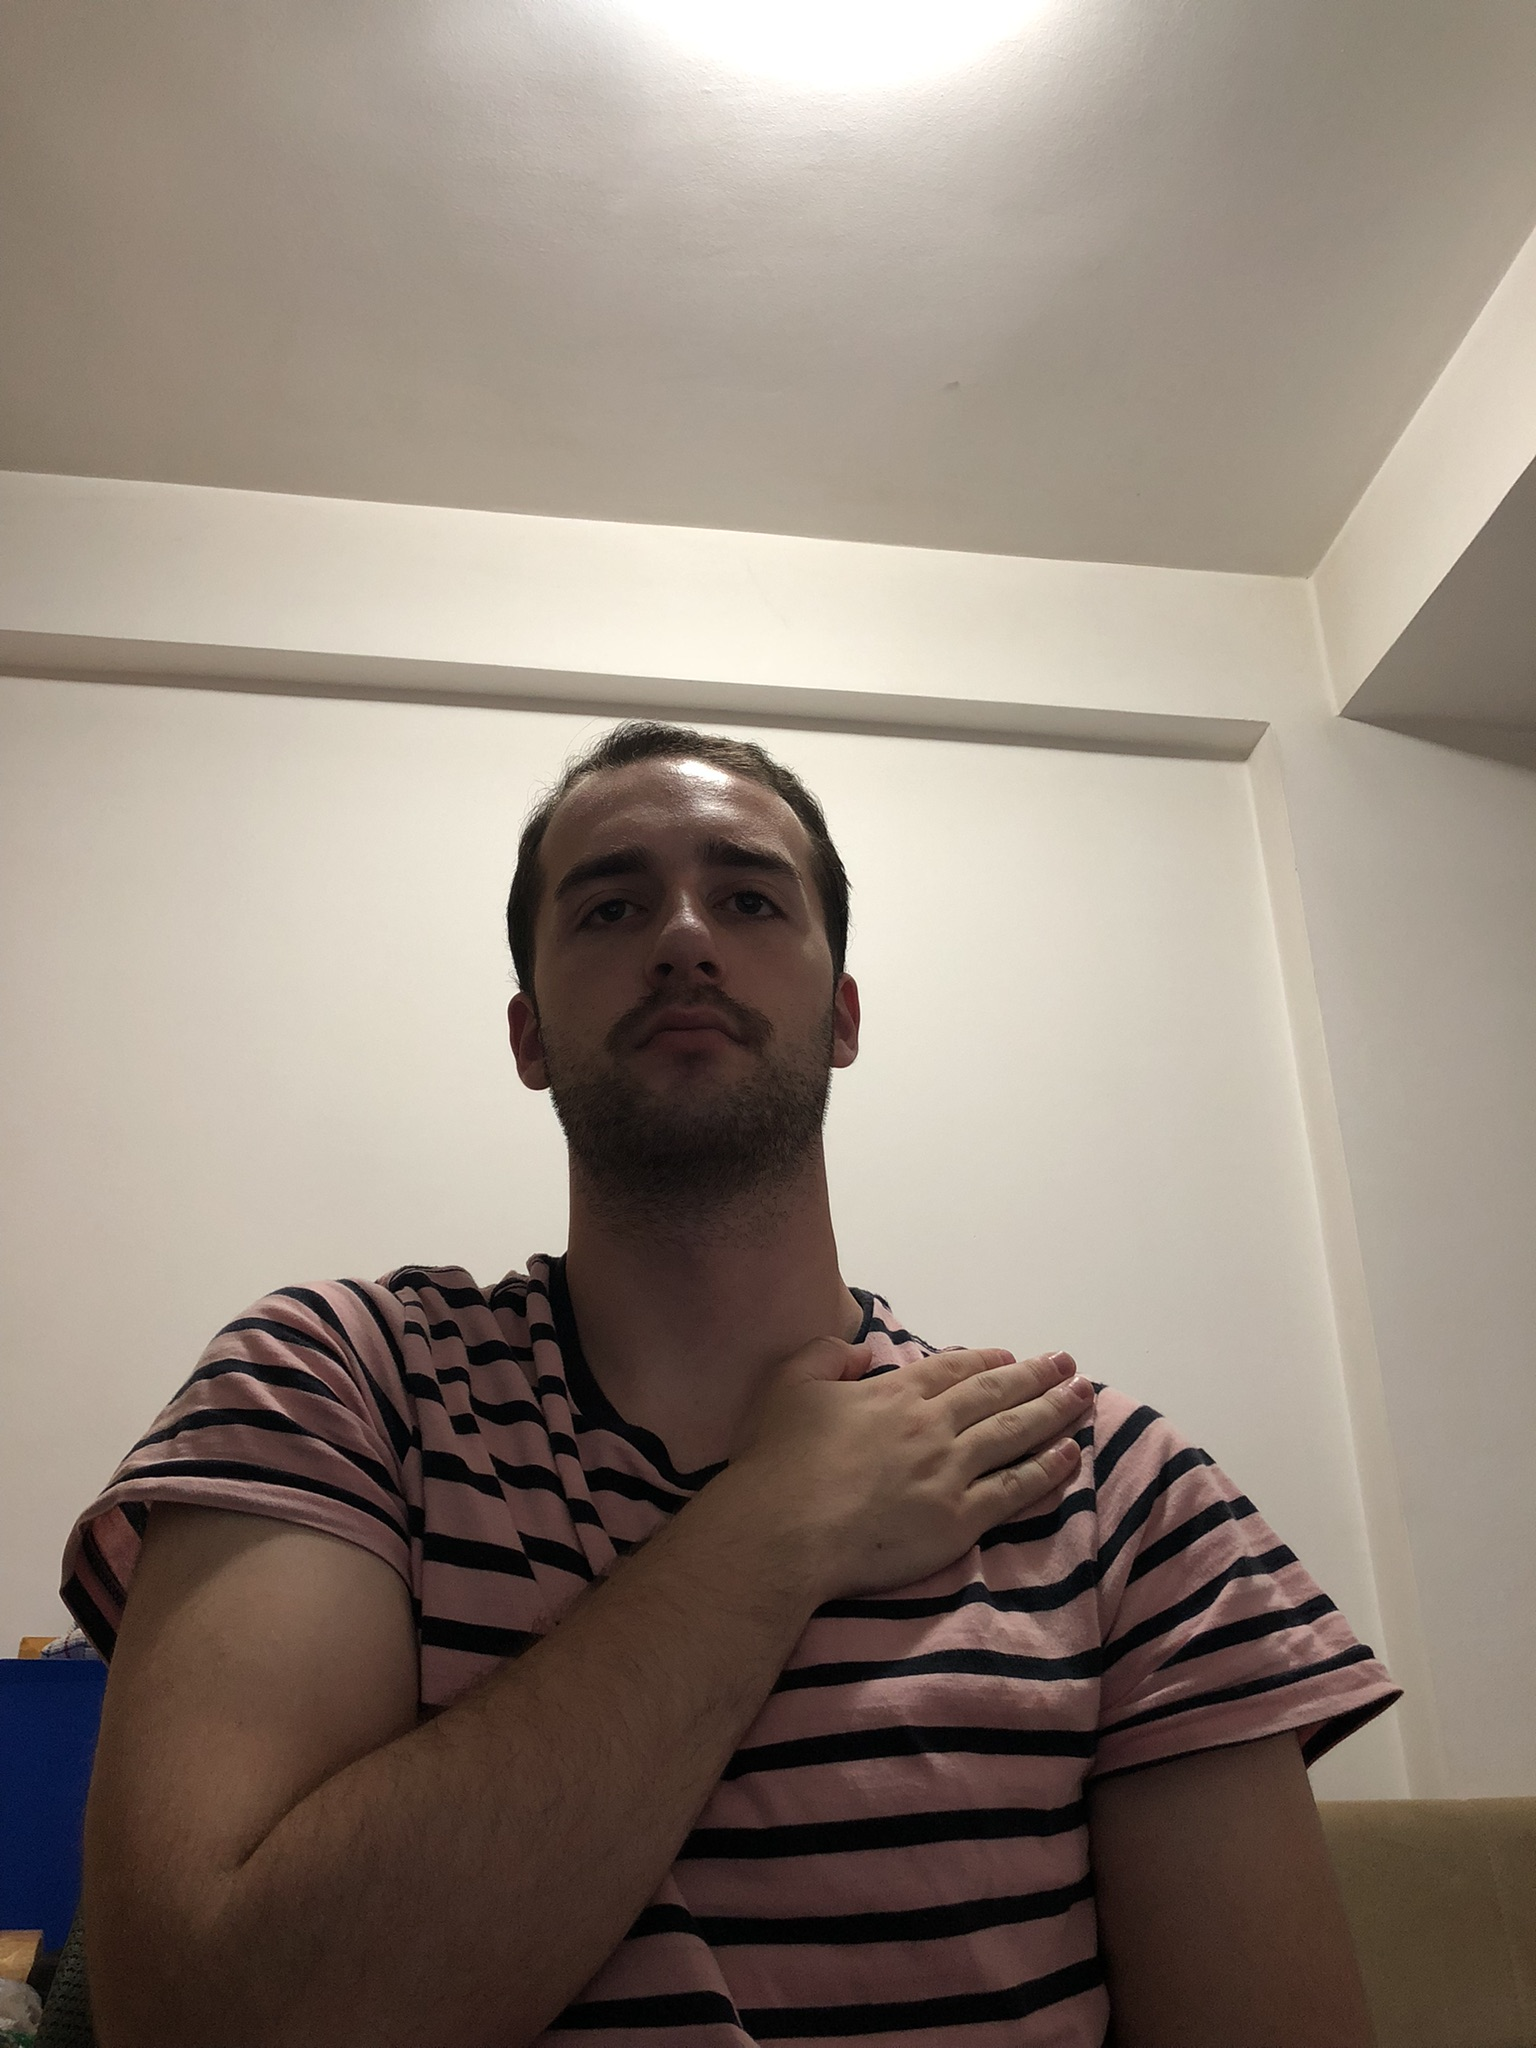Please: (81, 1334, 1092, 2048)
